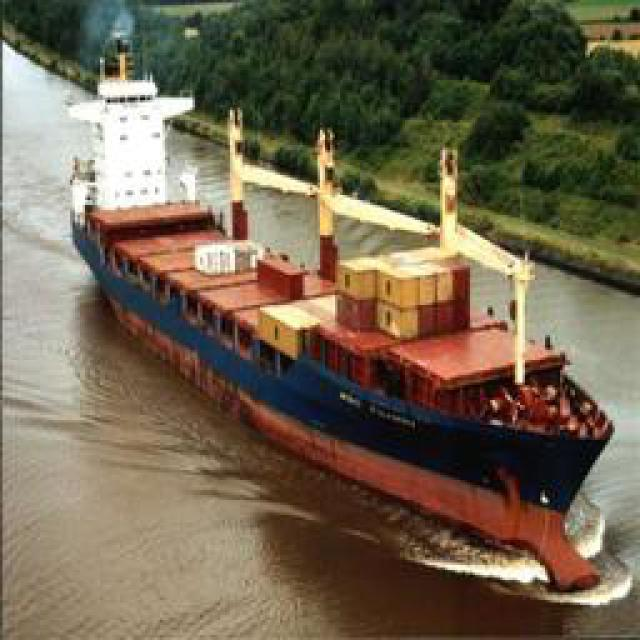Ship: (63, 73, 628, 601)
